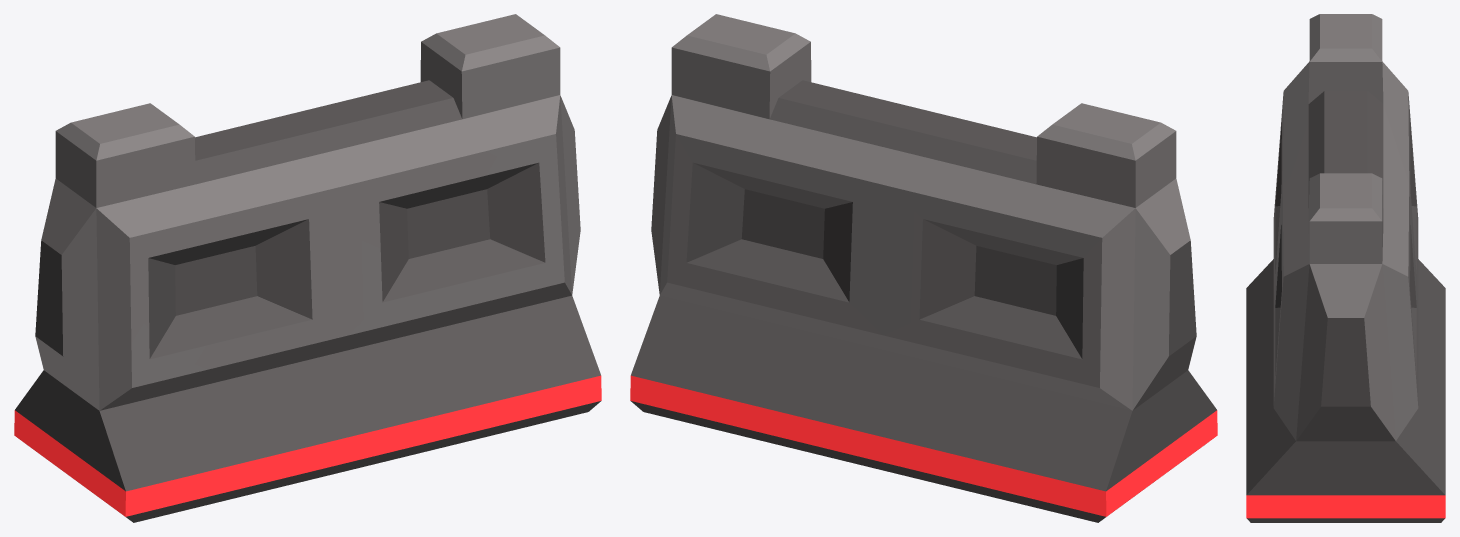
Rendered from scifi_scifi-barrier-medium.fbx.
3 renders of one model, left to right at view 1: azimuth 30°, elevation 25°; view 2: azimuth 150°, elevation 25°; view 3: azimuth 270°, elevation 25°, orthographic. The views are drawn at different scales.
Visible parts, largest first — view 1: scifi_scifi_barrier_medium; view 2: scifi_scifi_barrier_medium; view 3: scifi_scifi_barrier_medium.
Part boxes in pixels (box(x1,y1,x2,y2)): scifi_scifi_barrier_medium: box(14, 14, 601, 522); scifi_scifi_barrier_medium: box(630, 14, 1217, 522); scifi_scifi_barrier_medium: box(1246, 14, 1445, 522).
Bounding box in the file's own units: 200 × 129 × 74.48.
